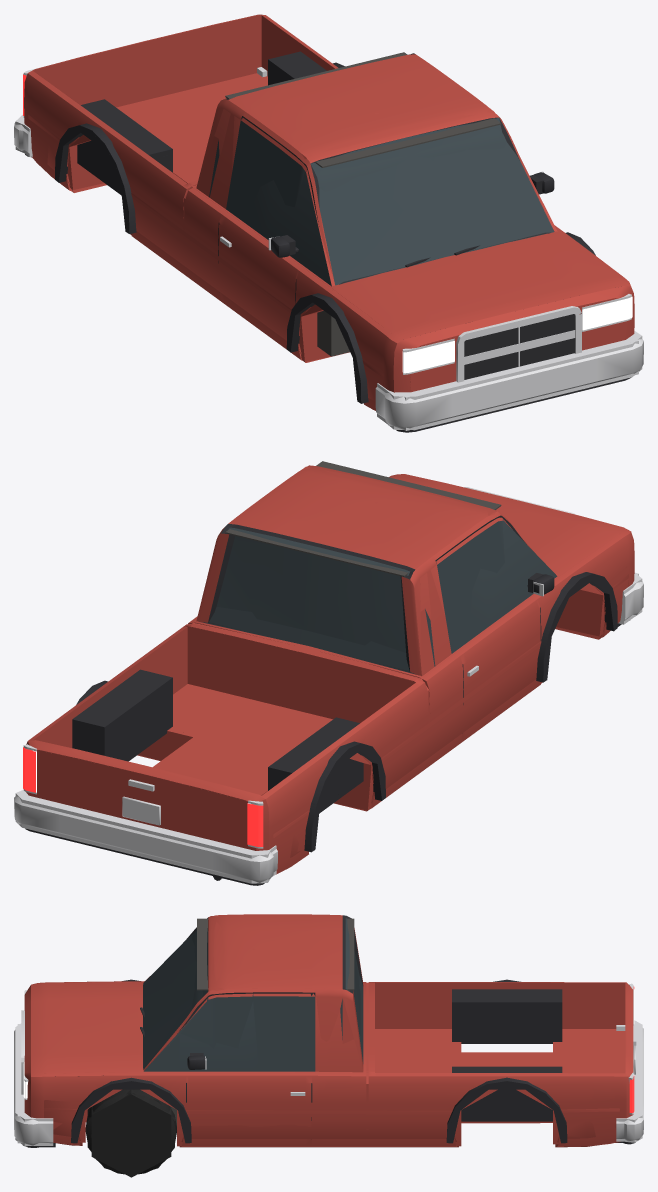
Rendered from pickup.glb.
The picture shows the model from 3 angles, top to bottom: view 1: azimuth 30°, elevation 25°; view 2: azimuth 150°, elevation 25°; view 3: azimuth 270°, elevation 25°; orthographic projection. The views are drawn at different scales.
Visible parts, largest first — view 1: lod0_body, lod1_body, lod2_body, lod0_hood, lod0_bumper_F, lod1_bumper_F, lod2_light_head; view 2: lod0_body, lod1_body, lod2_body, lod0_bumper_R, lod0_hood, lod1_bumper_R, lod2_light_tail, lod0_bumper_F; view 3: lod0_body, lod1_body, lod0_hood, lod1_door, lod2_body, lod0_door, lod2_wheel, lod0_bumper_F, lod0_wheel, lod1_bumper_R, lod0_bumper_R, lod1_bumper_F.
Part boxes in pixels (x1,y1,x2,y2): lod0_body: [23, 14, 634, 410]; lod1_body: [25, 15, 578, 410]; lod2_body: [28, 113, 638, 430]; lod0_hood: [329, 234, 630, 343]; lod0_bumper_F: [375, 331, 643, 432]; lod1_bumper_F: [377, 331, 642, 430]; lod2_light_head: [408, 298, 629, 372]; lod0_body: [23, 461, 634, 880]; lod1_body: [28, 466, 628, 869]; lod2_body: [29, 502, 638, 850]; lod0_bumper_R: [14, 796, 277, 885]; lod0_hood: [389, 474, 630, 576]; lod1_bumper_R: [15, 790, 276, 883]; lod2_light_tail: [25, 749, 258, 846]; lod0_bumper_F: [617, 573, 643, 626]; lod0_body: [21, 914, 636, 1146]; lod1_body: [22, 914, 633, 1147]; lod0_hood: [31, 981, 138, 1076]; lod1_door: [181, 996, 311, 1147]; lod2_body: [17, 917, 619, 1146]; lod0_door: [186, 992, 311, 1146]; lod2_wheel: [91, 1093, 171, 1177]; lod0_bumper_F: [14, 1024, 55, 1147]; lod0_wheel: [85, 1089, 176, 1174]; lod1_bumper_R: [616, 1020, 642, 1142]; lod0_bumper_R: [616, 1028, 643, 1144]; lod1_bumper_F: [15, 1026, 53, 1146].
Bounding box in the file's own units: 2.25 × 1.71 × 5.48.
